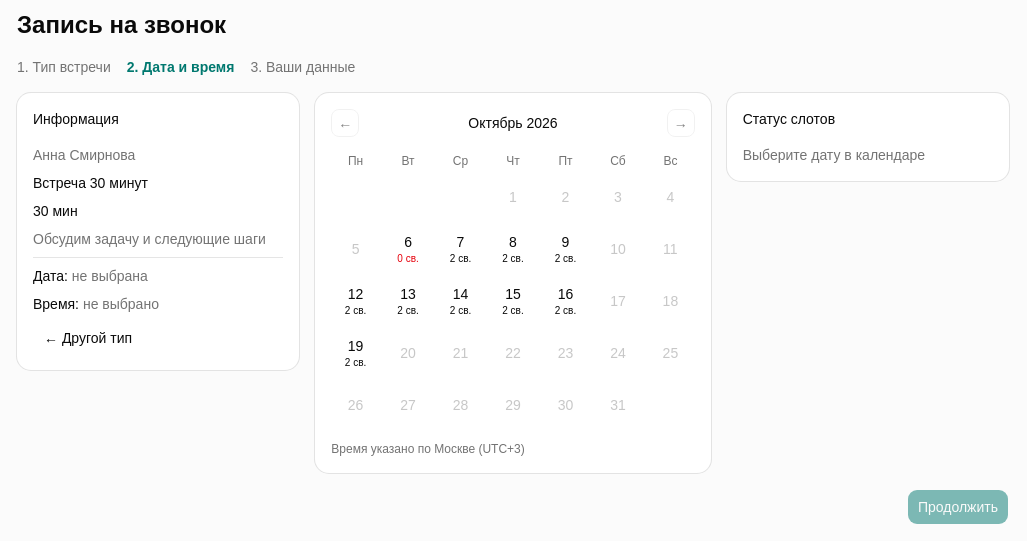
it: колонка «Статус слотов» › у рабочего дня без оставшихся слотов — «На этот день слотов не осталось»
Step 1. Click the button "6 0 св." → click(408, 249), box [384,225,432,273]
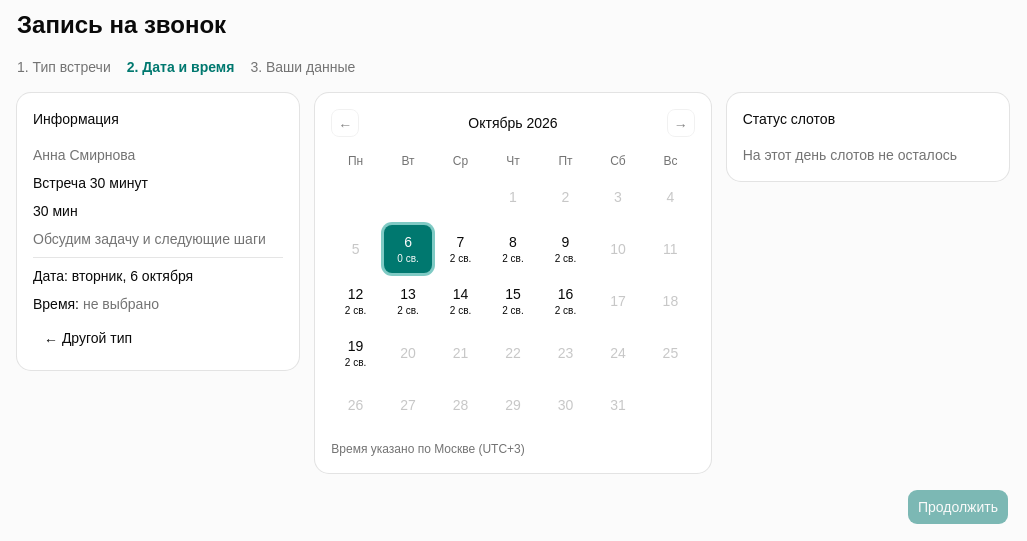
Expected: the element "Статус слотов" does not show "Все слоты заняты", [727,93,1009,181]
Now the element "Статус слотов" shows "На этот день слотов не осталось", box [743,147,957,163]
